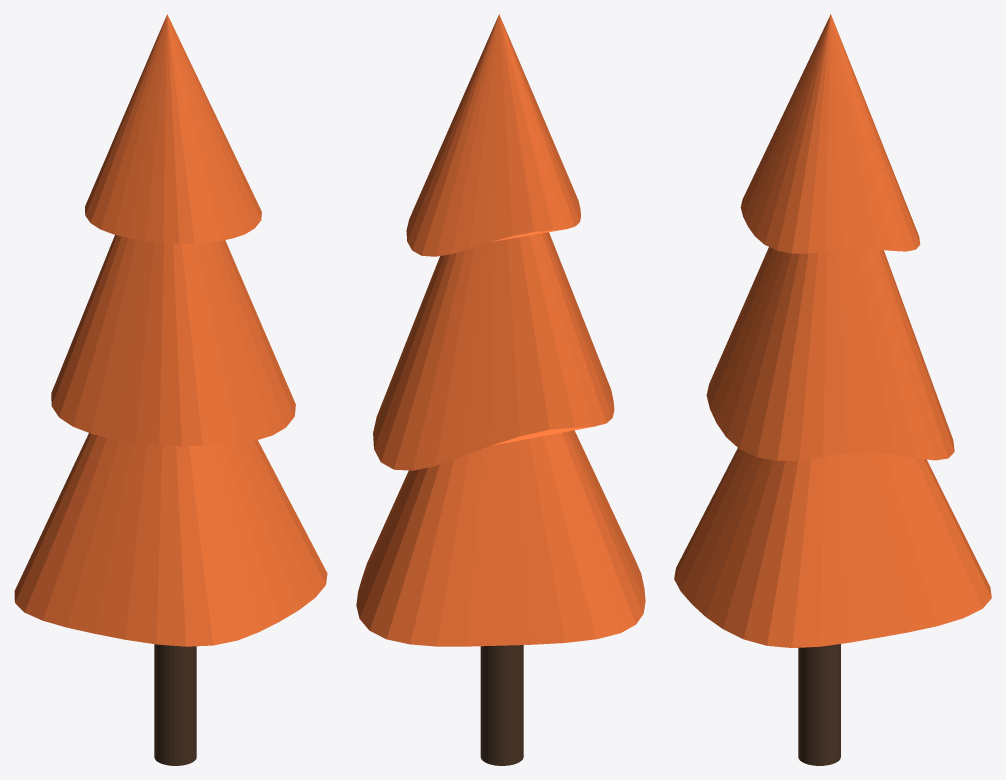
File: tree1.fbx
3 views of the same model, side by side, from view 1: azimuth 30°, elevation 25°; view 2: azimuth 150°, elevation 25°; view 3: azimuth 270°, elevation 25° (orthographic).
Parts seen in each view (by area): view 1: Cylinder; view 2: Cylinder; view 3: Cylinder.
Part boxes in pixels (bbox=[...]): Cylinder: bbox=[14, 14, 327, 765]; Cylinder: bbox=[356, 14, 645, 765]; Cylinder: bbox=[674, 14, 991, 765].
Bounding box in the file's own units: 165 × 430 × 167.
